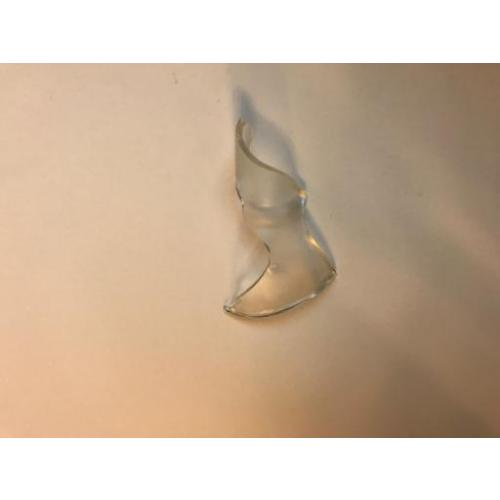glass: (240, 136, 331, 313)
